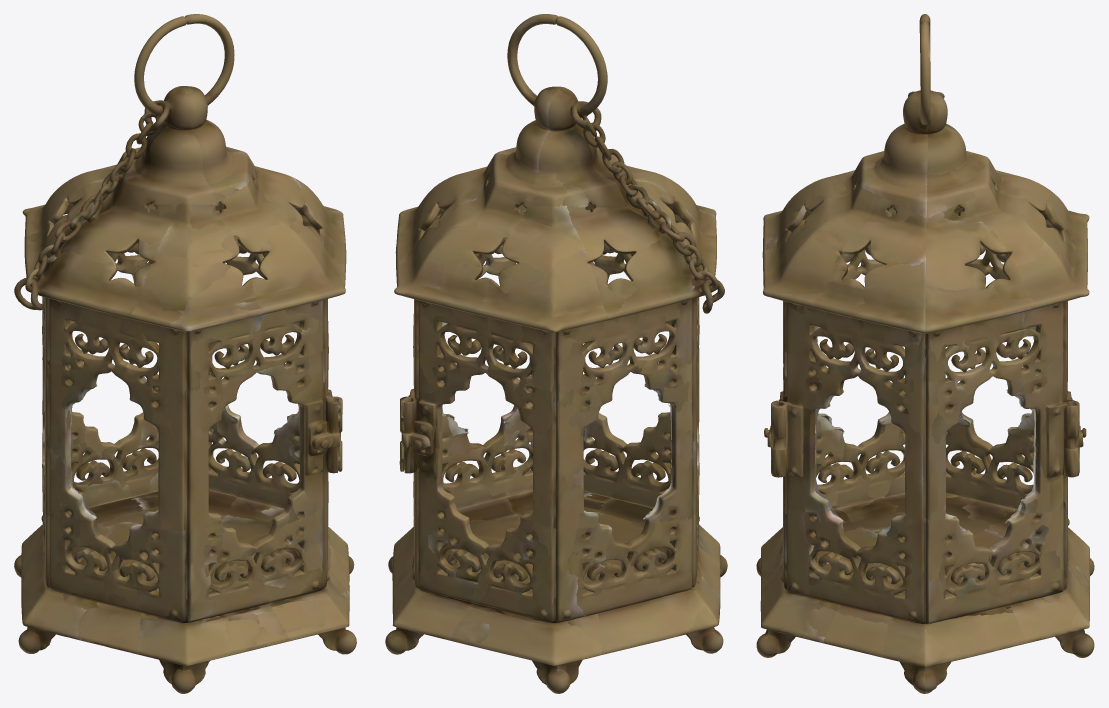
File: WoShi_LiShiDengLong_02_6002_03ddfc.glb
The picture shows the model from 3 angles, left to right: view 1: azimuth 30°, elevation 25°; view 2: azimuth 150°, elevation 25°; view 3: azimuth 270°, elevation 25°; orthographic projection.
Parts seen in each view (by area): view 1: WoShi_LiShiDengLong_02_6002; view 2: WoShi_LiShiDengLong_02_6002; view 3: WoShi_LiShiDengLong_02_6002.
Boxes of the visible parts, x1=… form: WoShi_LiShiDengLong_02_6002: x1=14, y1=14, x2=356, y2=693; WoShi_LiShiDengLong_02_6002: x1=385, y1=14, x2=727, y2=693; WoShi_LiShiDengLong_02_6002: x1=756, y1=14, x2=1094, y2=693.
Size of the model in its own units: 0.5686 by 0.9792 by 0.5022.
Materials: 1 (1 with a texture image).
